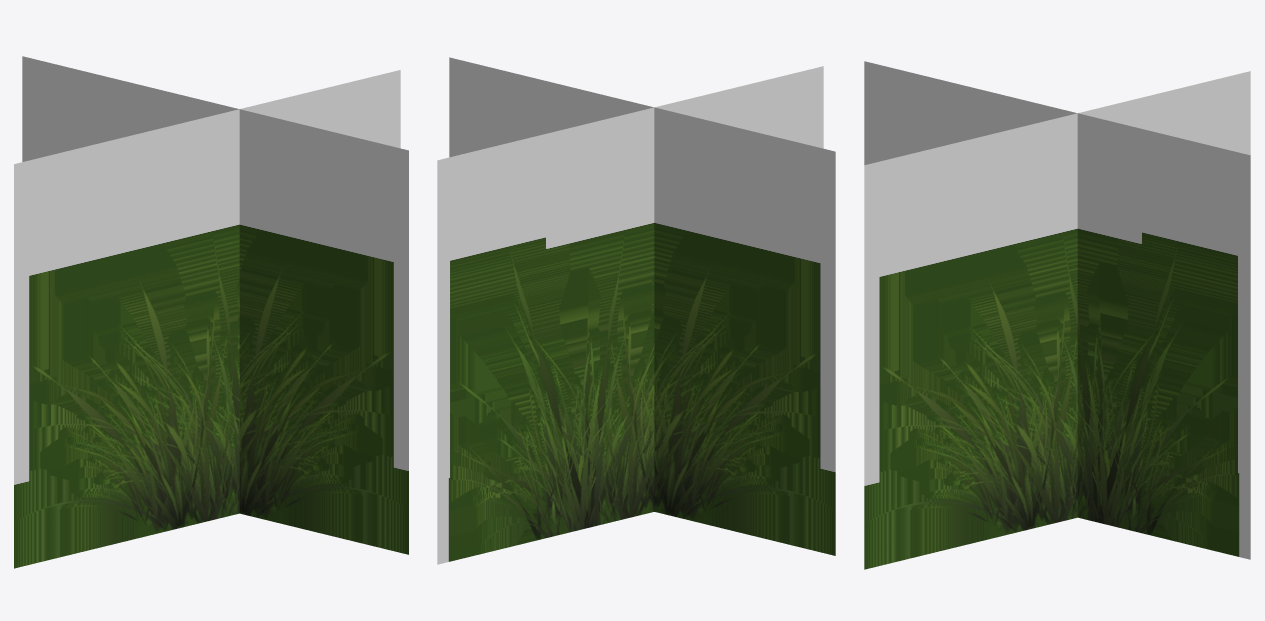
File: grass.glb
The picture shows the model from 3 angles, left to right: view 1: azimuth 30°, elevation 25°; view 2: azimuth 150°, elevation 25°; view 3: azimuth 270°, elevation 25°; orthographic projection.
Visible parts, largest first — view 1: Grass; view 2: Grass; view 3: Grass.
Boxes of the visible parts, bbox=[...] form: Grass: bbox=[14, 56, 408, 568]; Grass: bbox=[437, 57, 835, 564]; Grass: bbox=[864, 61, 1250, 569].
Size of the model in its own units: 2 by 2 by 1.73.
Materials: 1 (1 with a texture image).
